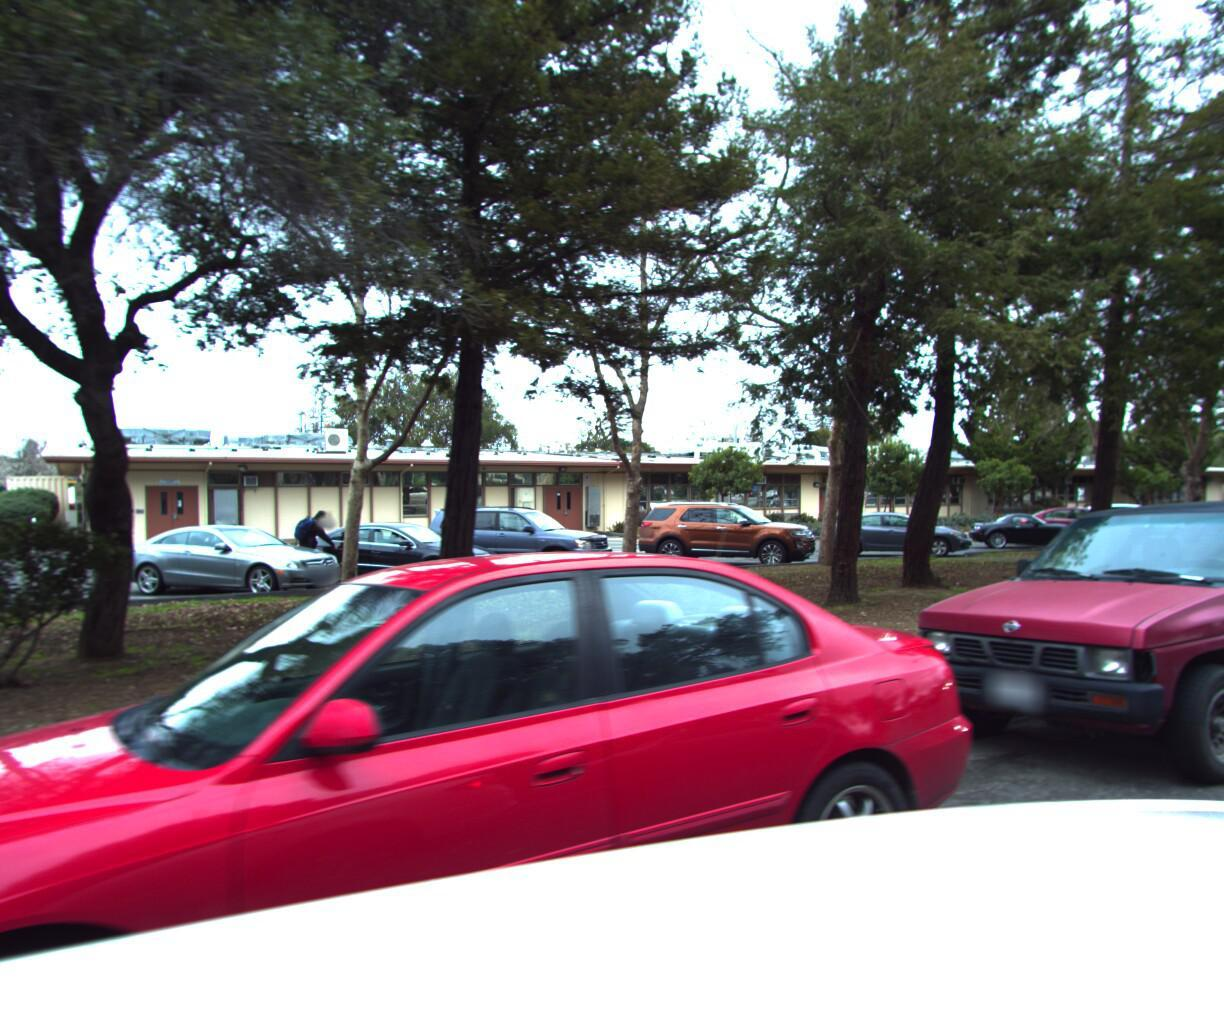car: (0, 508, 1027, 1024), (888, 492, 1224, 815)
